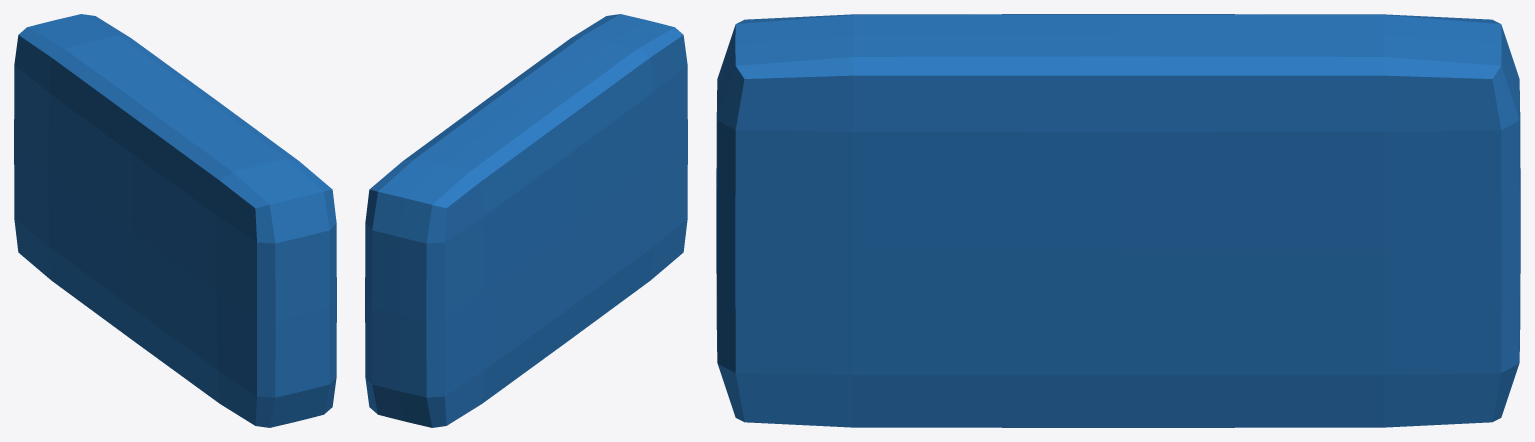
Rendered from blue_big_sign.fbx.
The picture shows the model from 3 angles, left to right: view 1: azimuth 30°, elevation 25°; view 2: azimuth 150°, elevation 25°; view 3: azimuth 270°, elevation 25°; orthographic projection. The views are drawn at different scales.
Parts seen in each view (by area): view 1: Cube; view 2: Cube; view 3: Cube.
Boxes of the visible parts, box(x1,y1,x2,y2) form: Cube: box(14, 14, 336, 427); Cube: box(365, 14, 687, 427); Cube: box(716, 14, 1520, 427).
Size of the model in its own units: 258 by 675 by 1321.
